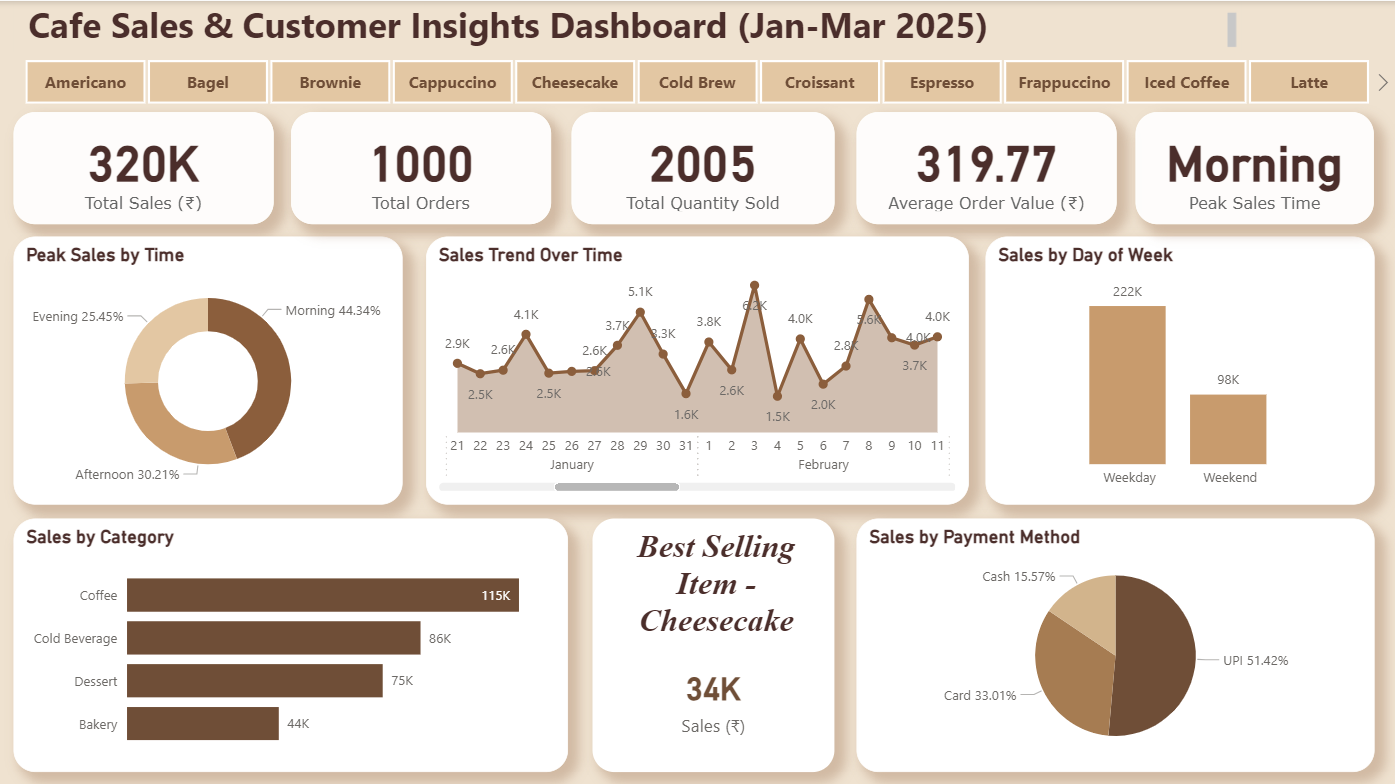

The dashboard page shown, as its layout file describes it:
{"tool":"powerbi","page":{"name":"Page 1","canvas":[1280,720],"ordinal":0},"visuals":[{"type":"slicer","fields":{"Values":["CafeData.Item"]},"box":[0,46.9,1279.5,54.5],"z":0},{"type":"card","fields":{"Values":["CafeData.Total Sales"]},"box":[15.1,101.5,237.7,103],"z":1000},{"type":"donutChart","title":"Peak Sales by Time","fields":{"Category":["CafeData.Time Period"],"Y":["CafeData.Total Sales"]},"box":[15.1,215,355.8,245.3],"z":2000},{"type":"card","fields":{"Values":["CafeData.Total Orders"]},"box":[269.5,101.5,237.7,103],"z":3000},{"type":"card","fields":{"Values":["CafeData.Total Quantity Sold"]},"box":[525.4,101.5,240.8,103],"z":4000},{"type":"card","fields":{"Values":["CafeData.Average Order Value"]},"box":[785.9,101.5,237.7,103],"z":5000},{"type":"lineChart","title":"Sales Trend Over Time","fields":{"Category":["CafeData.Date.Variation.Date Hierarchy.Month","CafeData.Date.Variation.Date Hierarchy.Day"],"Y":["CafeData.Total Sales"]},"box":[392.2,215,496.7,245.3],"z":6000},{"type":"clusteredColumnChart","title":"Sales by Day of Week","fields":{"Category":["CafeData.Day Type"],"Y":["CafeData.Total Sales"]},"box":[904,215,355.8,245.3],"z":7000},{"type":"clusteredBarChart","title":"Sales by Category","fields":{"Category":["CafeData.Category"],"Y":["CafeData.Total Sales"]},"box":[15.1,473.9,507.3,231.7],"z":8000},{"type":"pieChart","title":"Sales by Payment Method","fields":{"Category":["CafeData.Payment Mode"],"Y":["CafeData.Total Sales"]},"box":[785.9,473.9,473.9,231.7],"z":9000},{"type":"card","title":"Best Selling Item - Cheesecake","fields":{"Values":["CafeData.Best Selling Sales"]},"box":[545.1,473.9,221.1,231.7],"z":10000},{"type":"textbox","box":[15.1,0,1123.5,46.9],"z":11000},{"type":"card","fields":{"Values":["CafeData.Peak Sales Time"]},"box":[1041.8,101.5,218,103],"z":12000}]}

Visuals, with their boxes in screenshot pixels (x1, y1, x2, y2), scaled from the page's 1280x720 canvas onto the 1395x784 screenshot:
slicer - CafeData.Item: x1=0, y1=51, x2=1394, y2=110
card - CafeData.Total Sales: x1=16, y1=111, x2=276, y2=223
"Peak Sales by Time" donutChart: x1=16, y1=234, x2=404, y2=501
card - CafeData.Total Orders: x1=294, y1=111, x2=553, y2=223
card - CafeData.Total Quantity Sold: x1=573, y1=111, x2=835, y2=223
card - CafeData.Average Order Value: x1=857, y1=111, x2=1116, y2=223
"Sales Trend Over Time" lineChart: x1=427, y1=234, x2=969, y2=501
"Sales by Day of Week" clusteredColumnChart: x1=985, y1=234, x2=1373, y2=501
"Sales by Category" clusteredBarChart: x1=16, y1=516, x2=569, y2=768
"Sales by Payment Method" pieChart: x1=857, y1=516, x2=1373, y2=768
"Best Selling Item - Cheesecake" card: x1=594, y1=516, x2=835, y2=768
textbox: x1=16, y1=0, x2=1241, y2=51
card - CafeData.Peak Sales Time: x1=1135, y1=111, x2=1373, y2=223
